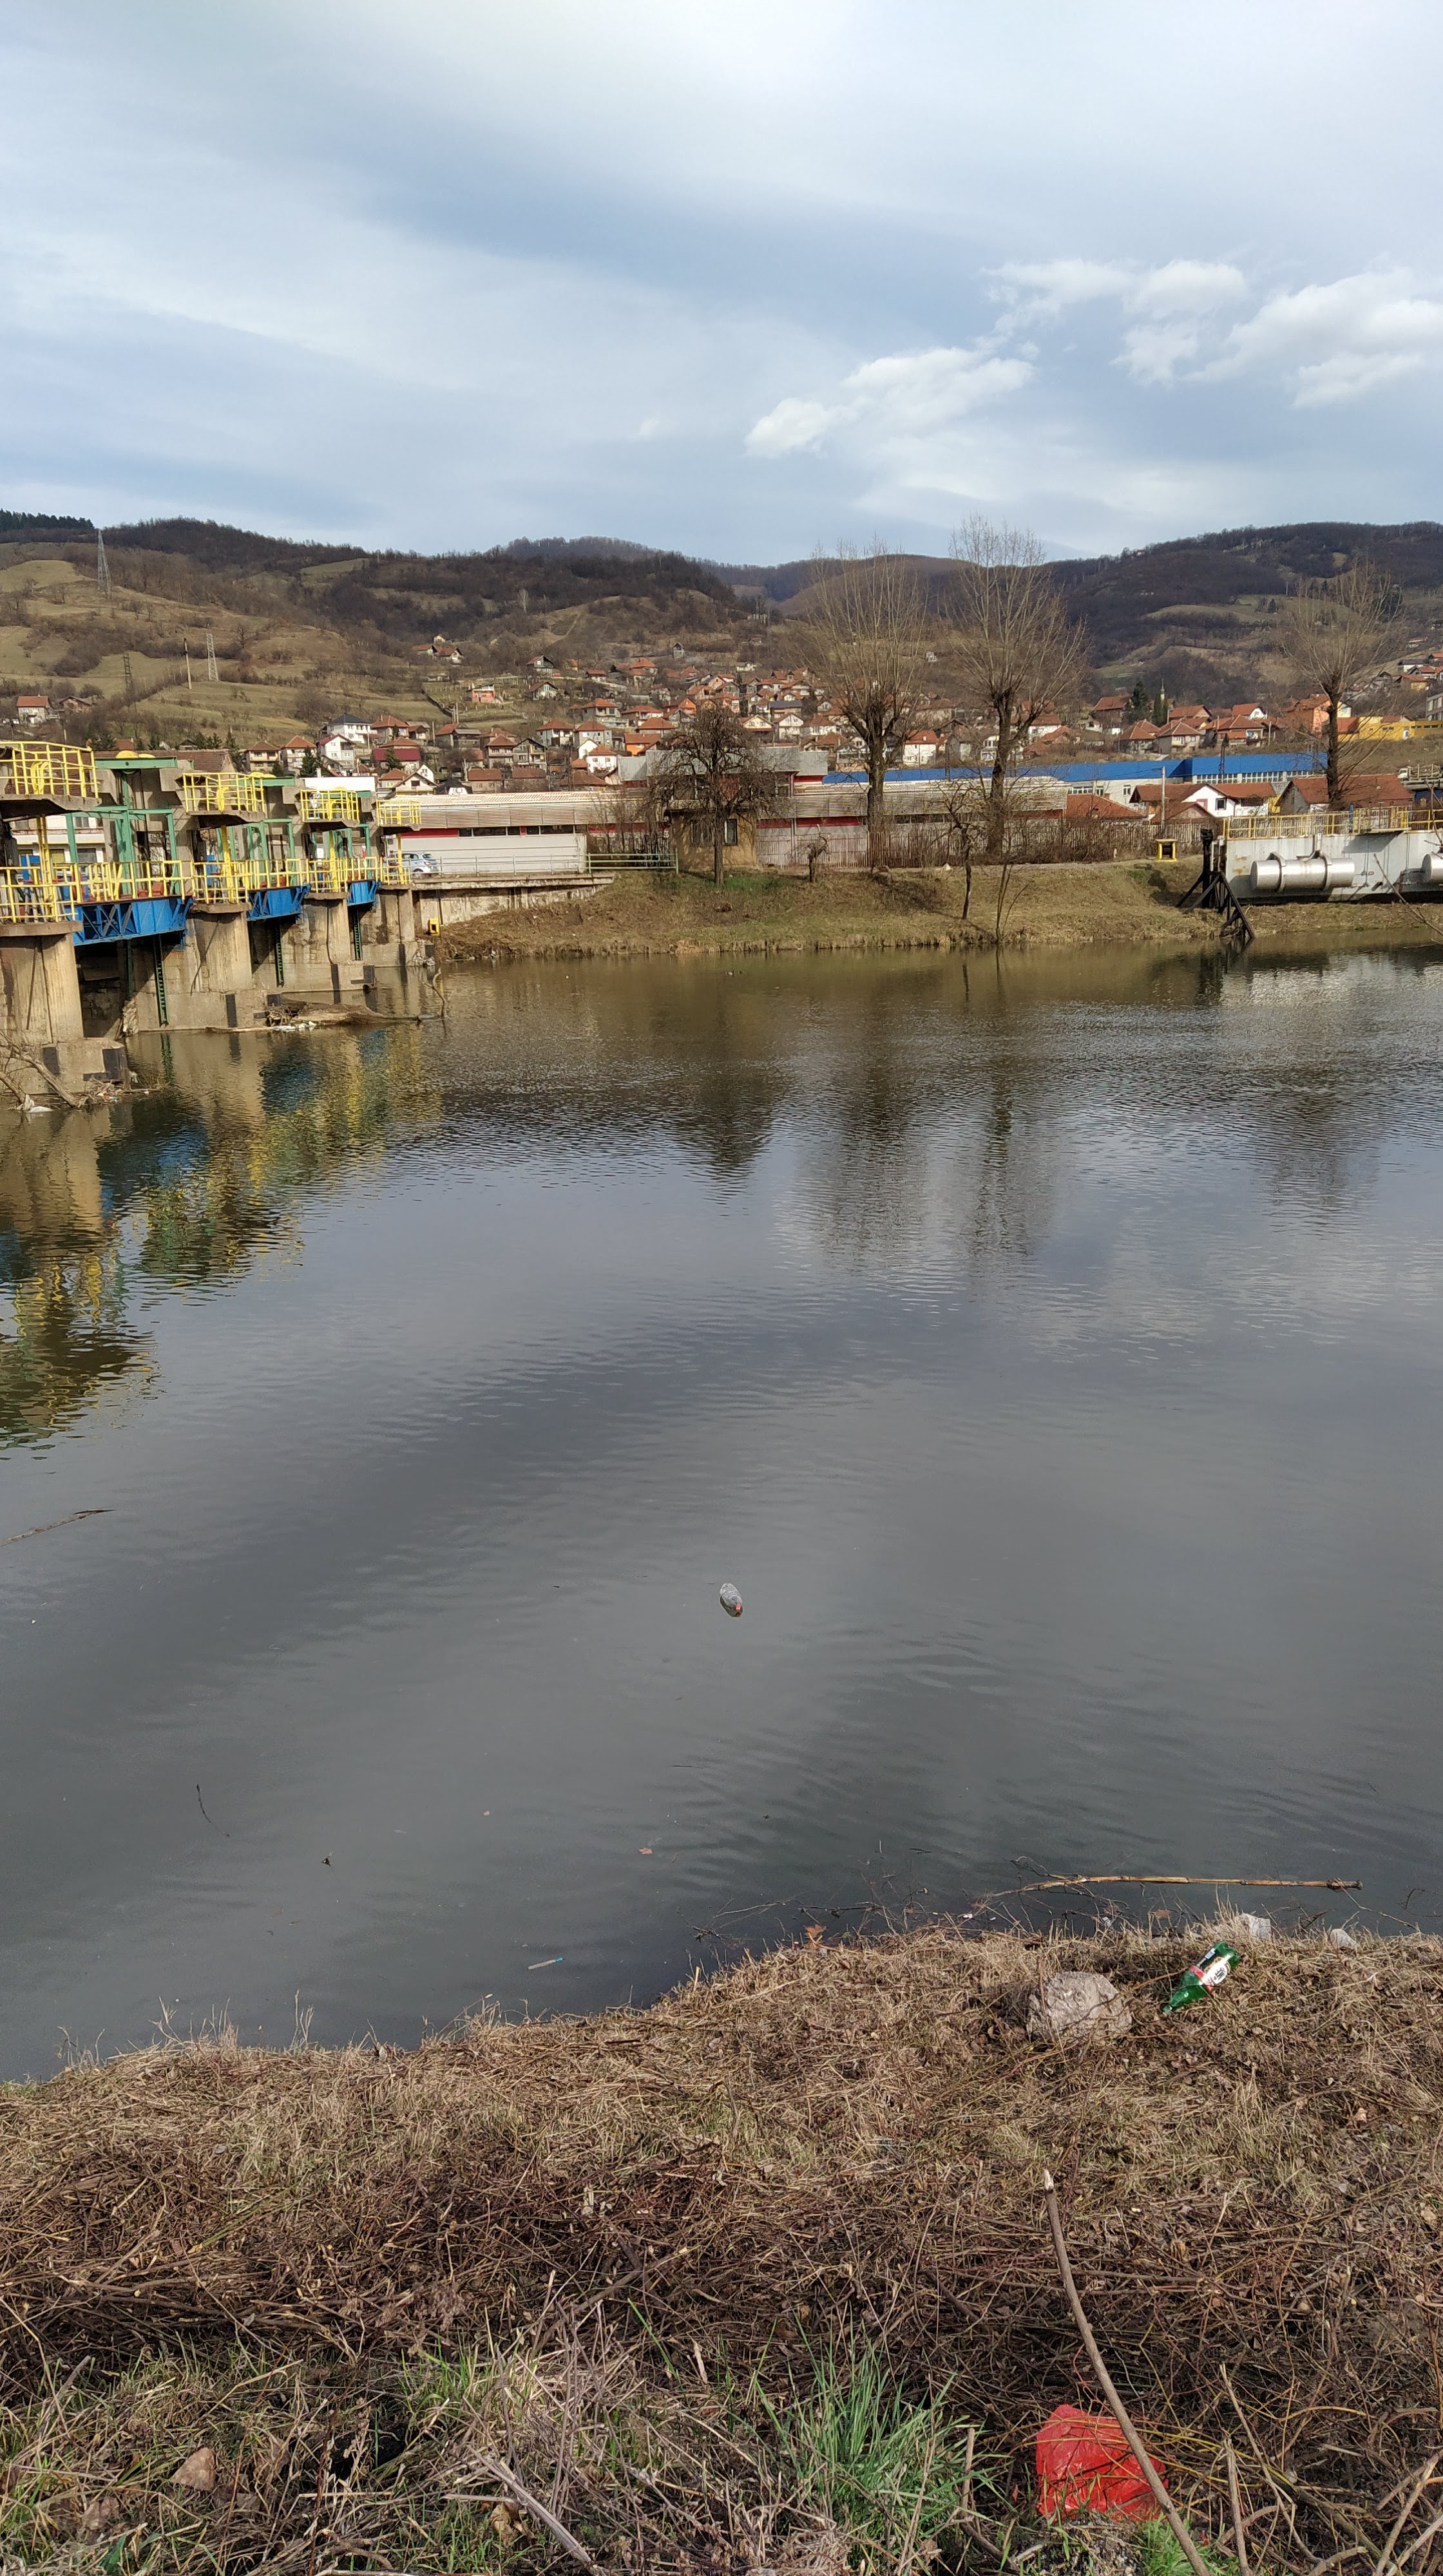Plastic Bottle: (719, 1583, 742, 1612)
